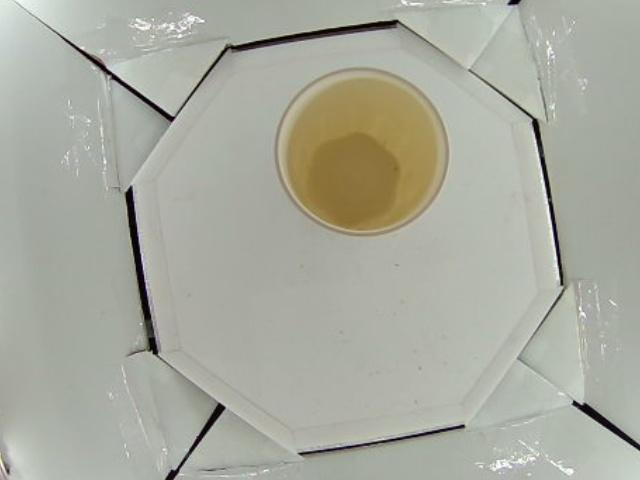Cup: (275, 63, 450, 236)
